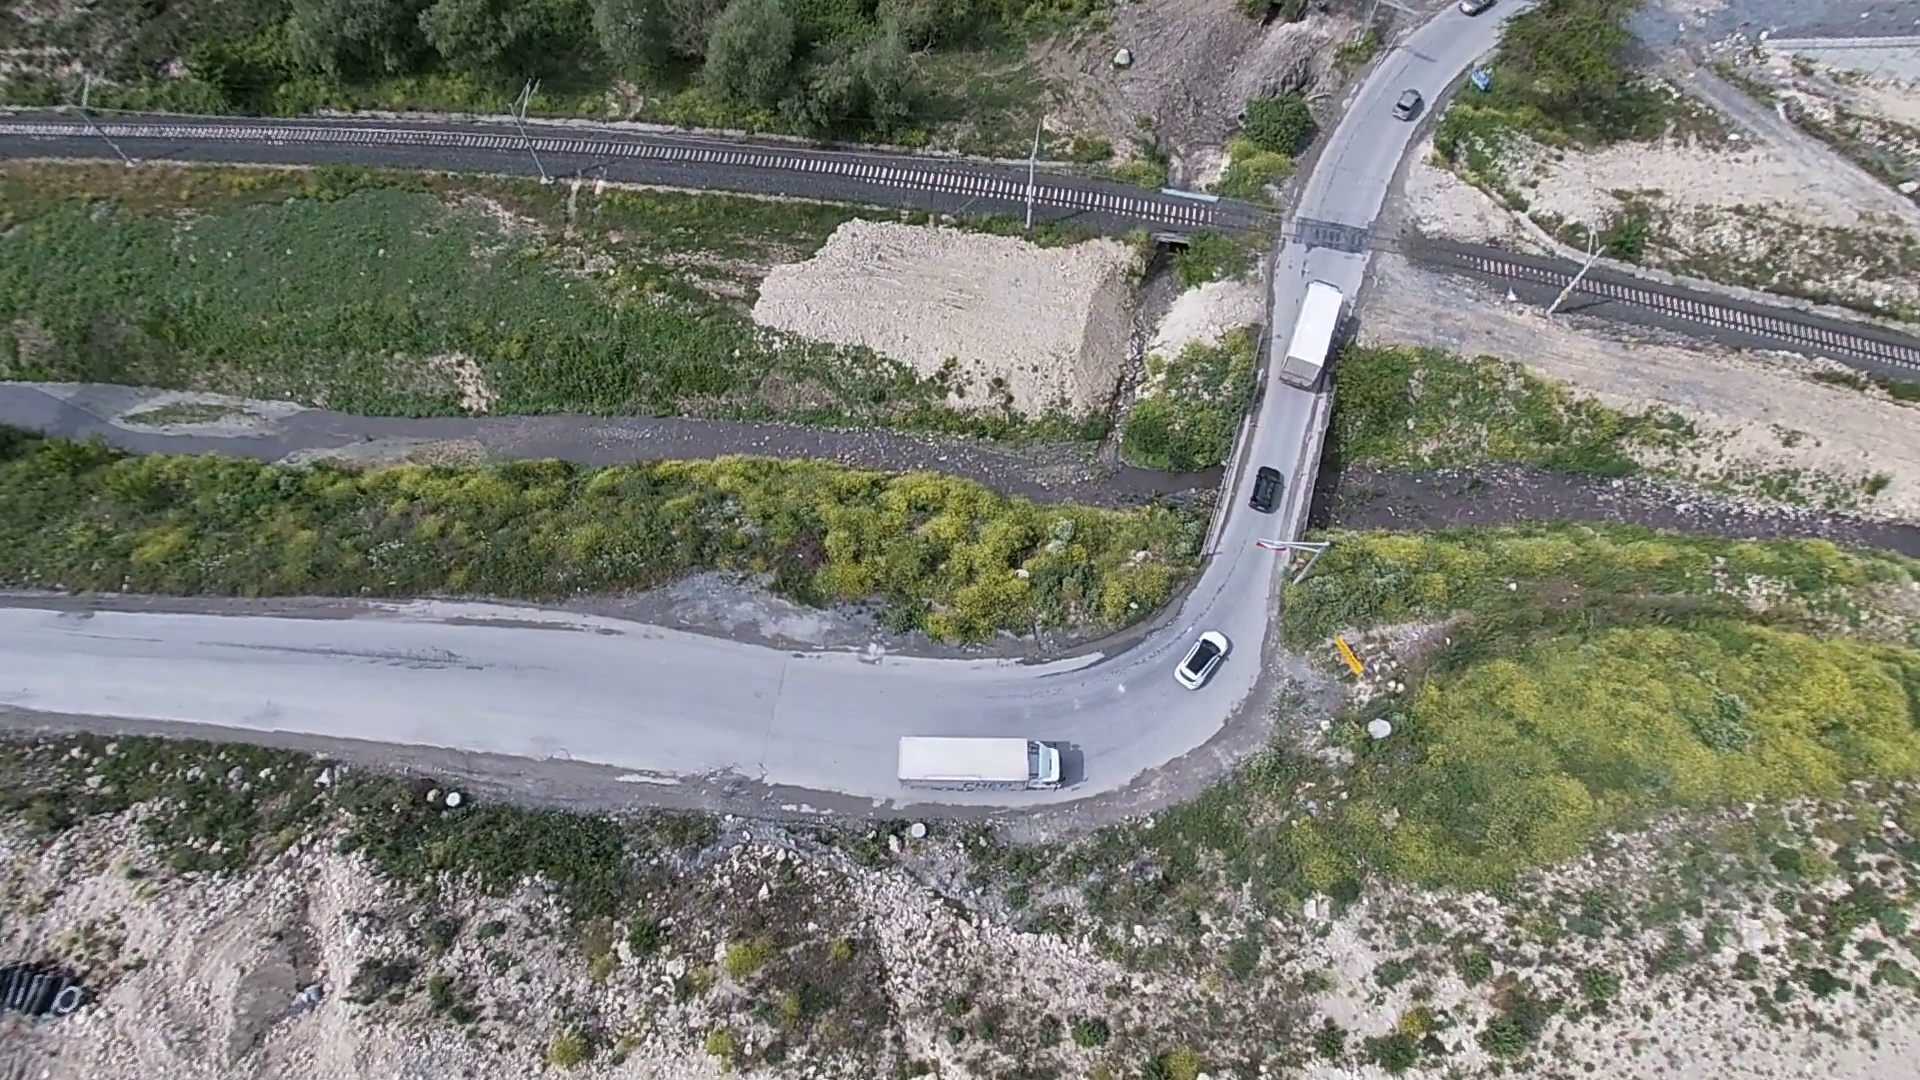arac: (893, 729, 1064, 793), (1274, 280, 1356, 392), (1168, 632, 1236, 691), (1251, 458, 1284, 525), (1394, 87, 1424, 123)
